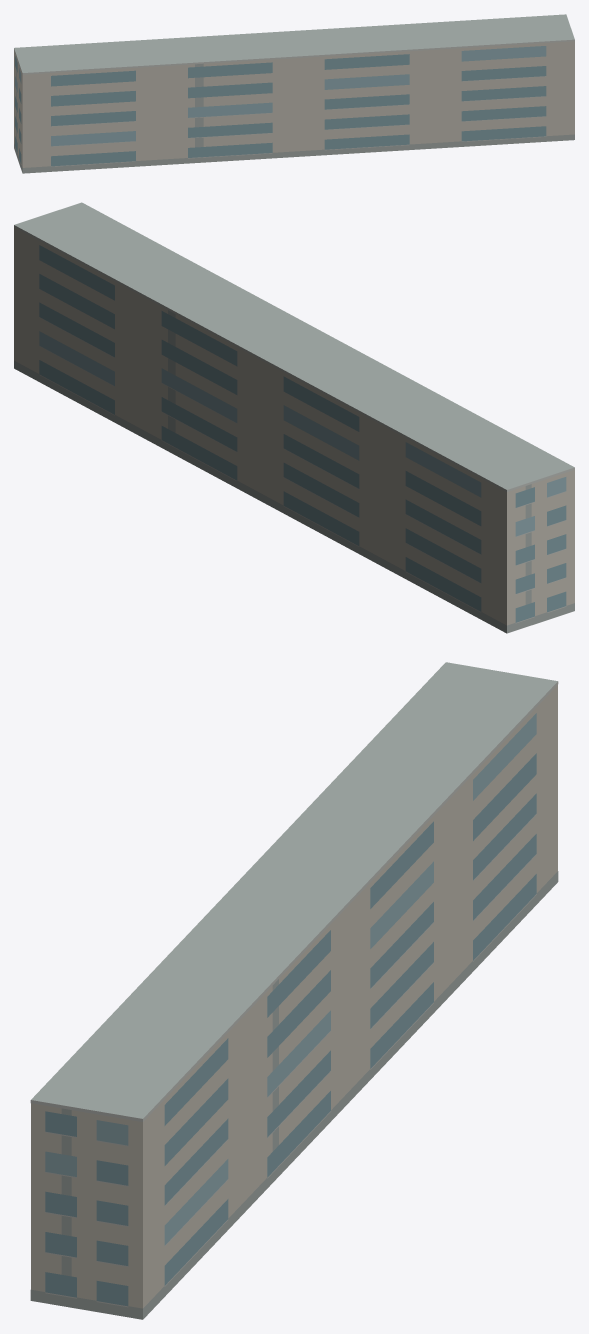
Rendered from residential-988a84bd-2962-4568-a205-00d9d003ad29.glb.
The picture shows the model from 3 angles, top to bottom: view 1: azimuth 30°, elevation 25°; view 2: azimuth 150°, elevation 25°; view 3: azimuth 270°, elevation 25°; orthographic projection. The views are drawn at different scales.
Parts seen in each view (by area): view 1: residential-988a84bd-2962-4568-a205-00d9d003ad29.tmp; view 2: residential-988a84bd-2962-4568-a205-00d9d003ad29.tmp; view 3: residential-988a84bd-2962-4568-a205-00d9d003ad29.tmp.
Boxes of the visible parts, x1,y1,x2,y2 form: residential-988a84bd-2962-4568-a205-00d9d003ad29.tmp: (14,14,574,173); residential-988a84bd-2962-4568-a205-00d9d003ad29.tmp: (14,202,574,633); residential-988a84bd-2962-4568-a205-00d9d003ad29.tmp: (30,662,558,1319).
Bounding box in the file's own units: 74.38 × 15.25 × 36.29.
